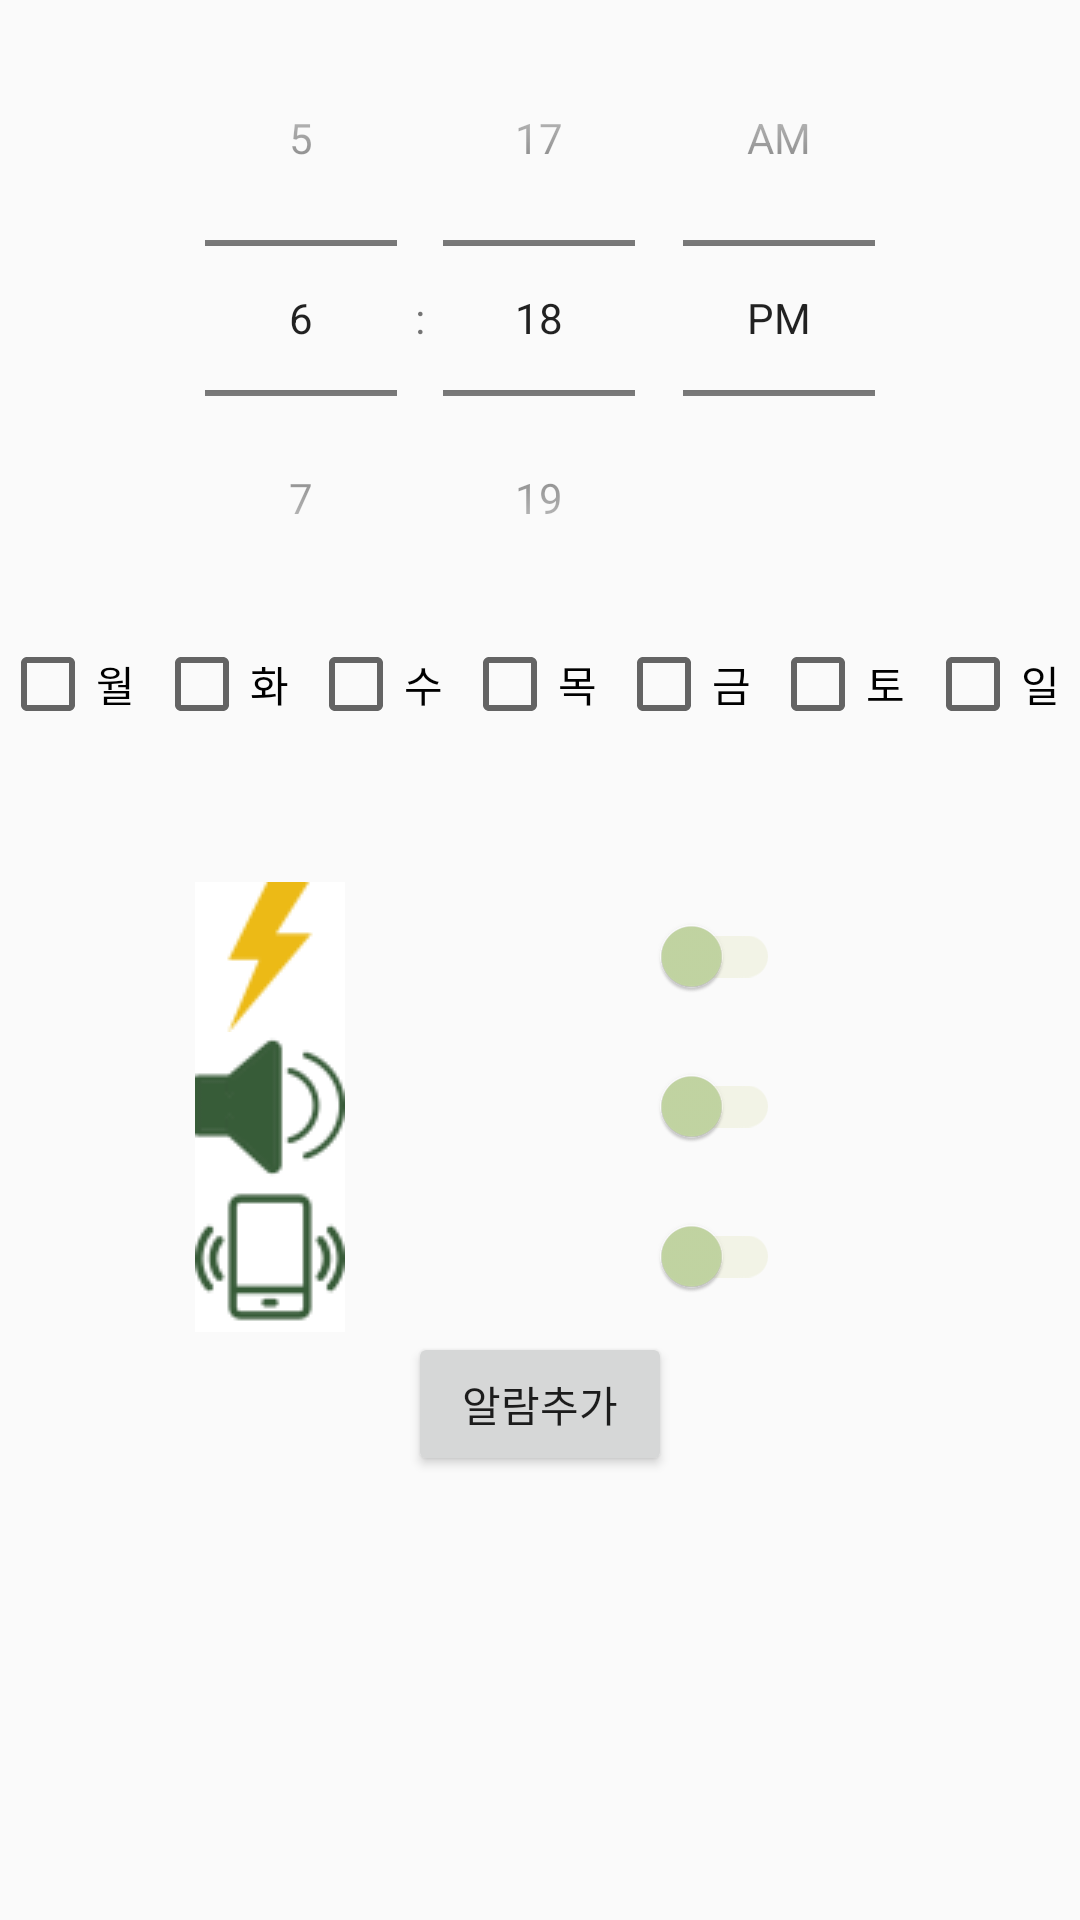

Icon click points for this 1080x1920 phone screenshot, format point (x, y):
sound on: point (270, 1107)
vib on: point (270, 1257)
